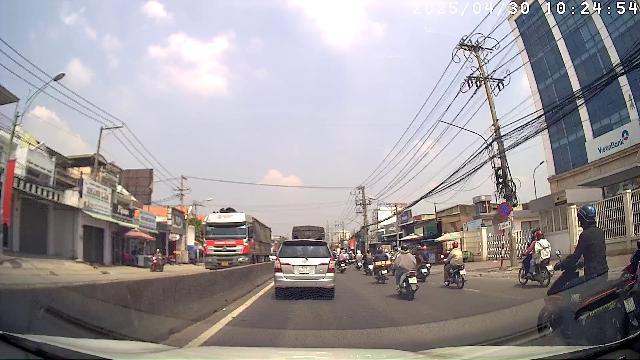130-cam-dung-va-do-xe: (498, 202, 512, 218)
